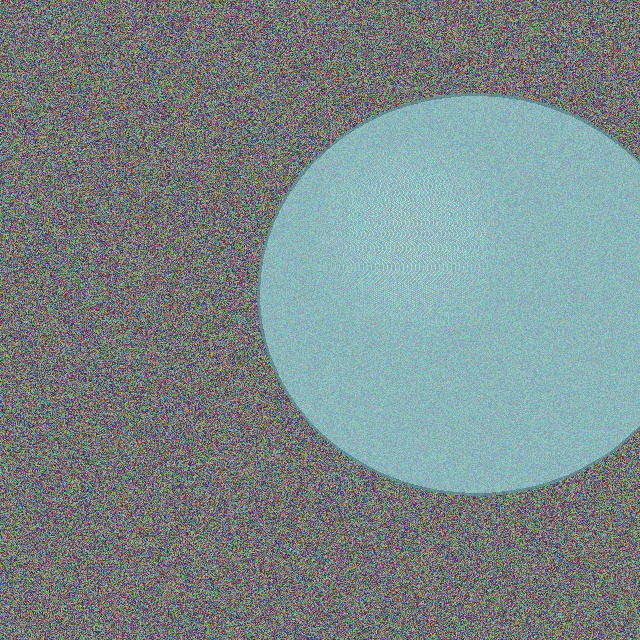lens: (258, 94, 640, 494)
